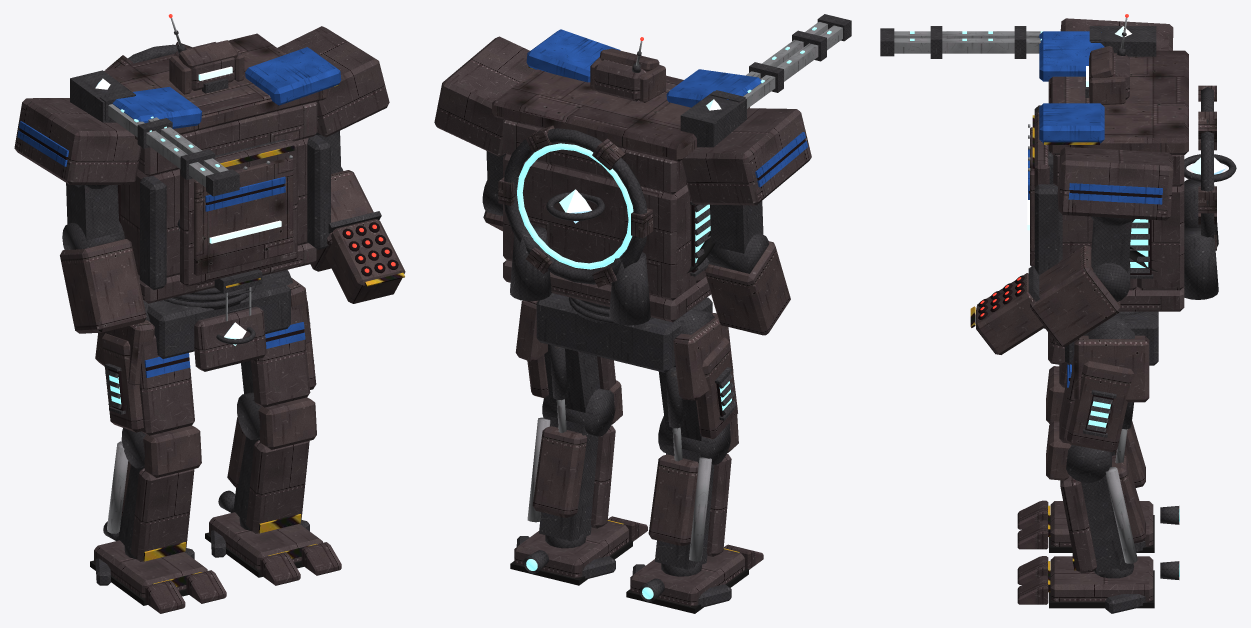
Rendered from mech_atlas.glb.
3 renders of one model, left to right at view 1: azimuth 30°, elevation 25°; view 2: azimuth 150°, elevation 25°; view 3: azimuth 270°, elevation 25°, orthographic. The views are drawn at different scales.
Visible parts, largest first — view 1: cockpit_atlas_armor, CHEST_front_atlas_armor2, shoulder_R_atlas_armor, forearm_R_atlas_armor2, cockpit_atlas_armor2, cockpit_atlas_frame, shoulder_L_atlas_armor, pelvis_atlas_frame, shin_R_atlas_armor, shin_L_atlas_armor, CHEST_front_atlas_armor, hand_L_atlas_armor2 (+35 smaller); view 2: cockpit_atlas_armor, cockpit_atlas_armor2, shoulder_R_atlas_armor, shoulder_L_atlas_armor, pelvis_atlas_frame, torso_atlas_frame, forearm_R_atlas_armor2, torso_atlas_dark, shin_L_atlas_armor2, pelvis_atlas_armor2, shin_R_atlas_armor2, rail_R_atlas_frame (+35 smaller); view 3: cockpit_atlas_armor2, shoulder_L_atlas_armor, cockpit_atlas_armor, forearm_L_atlas_armor2, thigh_L_atlas_armor2, foot_L_atlas_armor, cockpit_atlas_frame, pelvis_atlas_armor2, torso_atlas_dark, hand_L_atlas_armor2, rail_R_atlas_metal, shin_L_atlas_frame (+28 smaller).
Part boxes in pixels (bbox=[...]): cockpit_atlas_armor: bbox=[120, 102, 317, 303]; CHEST_front_atlas_armor2: bbox=[194, 157, 293, 275]; shoulder_R_atlas_armor: bbox=[14, 98, 141, 184]; forearm_R_atlas_armor2: bbox=[60, 239, 146, 333]; cockpit_atlas_armor2: bbox=[104, 33, 327, 140]; cockpit_atlas_frame: bbox=[140, 135, 330, 289]; shoulder_L_atlas_armor: bbox=[277, 26, 389, 137]; pelvis_atlas_frame: bbox=[147, 275, 290, 358]; shin_R_atlas_armor: bbox=[131, 468, 194, 561]; shin_L_atlas_armor: bbox=[246, 440, 309, 533]; CHEST_front_atlas_armor: bbox=[180, 139, 297, 286]; hand_L_atlas_armor2: bbox=[325, 219, 405, 303]; cockpit_atlas_armor: bbox=[503, 119, 710, 322]; cockpit_atlas_armor2: bbox=[492, 69, 749, 161]; shoulder_R_atlas_armor: bbox=[681, 108, 811, 205]; shoulder_L_atlas_armor: bbox=[434, 36, 536, 156]; pelvis_atlas_frame: bbox=[536, 293, 712, 372]; torso_atlas_frame: bbox=[504, 128, 648, 284]; forearm_R_atlas_armor2: bbox=[704, 241, 790, 335]; torso_atlas_dark: bbox=[510, 225, 650, 325]; shin_L_atlas_armor2: bbox=[532, 380, 622, 517]; pelvis_atlas_armor2: bbox=[515, 300, 733, 400]; shin_R_atlas_armor2: bbox=[648, 414, 738, 546]; rail_R_atlas_frame: bbox=[680, 30, 826, 147]; cockpit_atlas_armor2: bbox=[1048, 50, 1188, 154]; shoulder_L_atlas_armor: bbox=[1057, 147, 1173, 220]; cockpit_atlas_armor: bbox=[1053, 155, 1184, 311]; forearm_L_atlas_armor2: bbox=[1030, 245, 1120, 347]; thigh_L_atlas_armor2: bbox=[1067, 361, 1134, 452]; foot_L_atlas_armor: bbox=[1050, 556, 1153, 601]; cockpit_atlas_frame: bbox=[1034, 105, 1153, 278]; pelvis_atlas_armor2: bbox=[1074, 335, 1149, 402]; torso_atlas_dark: bbox=[1184, 179, 1218, 299]; hand_L_atlas_armor2: bbox=[976, 273, 1044, 354]; rail_R_atlas_metal: bbox=[894, 31, 1040, 53]; shin_L_atlas_frame: bbox=[1081, 452, 1133, 574].
Bounding box in the file's own units: 8.34 × 13.5 × 8.1.
Materials: 13 (7 with a texture image).
